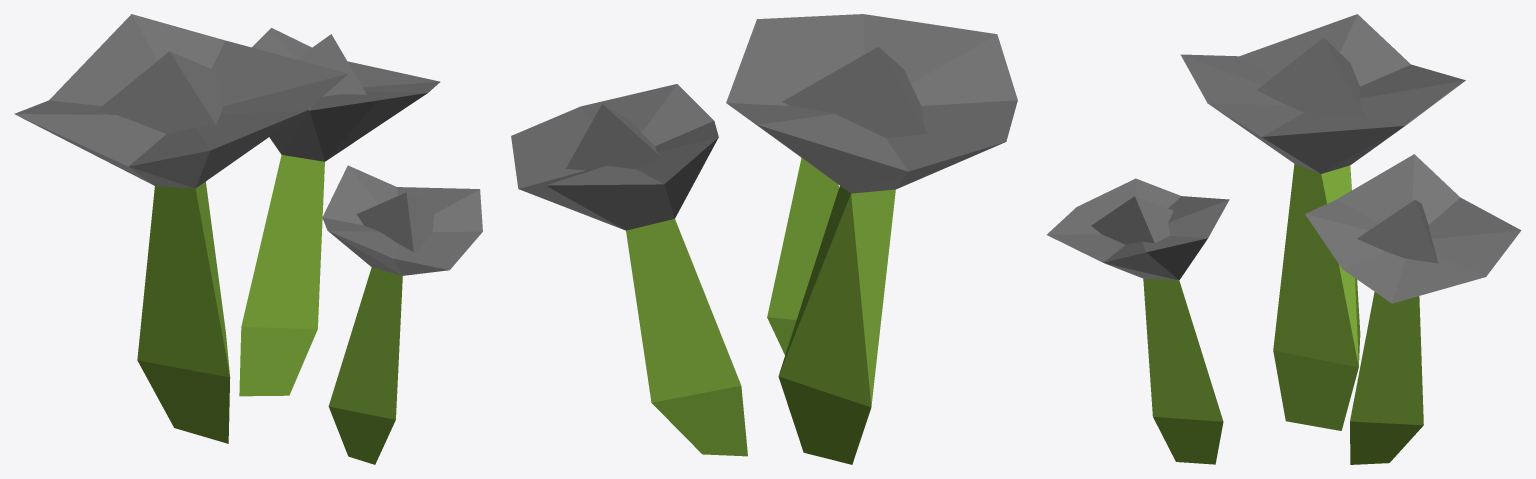
File: Env_Flower06.FBX
3 views of the same model, side by side, from view 1: azimuth 30°, elevation 25°; view 2: azimuth 150°, elevation 25°; view 3: azimuth 270°, elevation 25° (orthographic). The views are drawn at different scales.
Parts seen in each view (by area): view 1: Env_Flower06; view 2: Env_Flower06; view 3: Env_Flower06.
Boxes of the visible parts, x1,y1,x2,y2 form: Env_Flower06: (14, 14, 482, 464); Env_Flower06: (511, 14, 1017, 464); Env_Flower06: (1047, 14, 1521, 464).
Bounding box in the file's own units: 59.72 × 49.69 × 58.48.
Materials: 1 (1 with a texture image).
